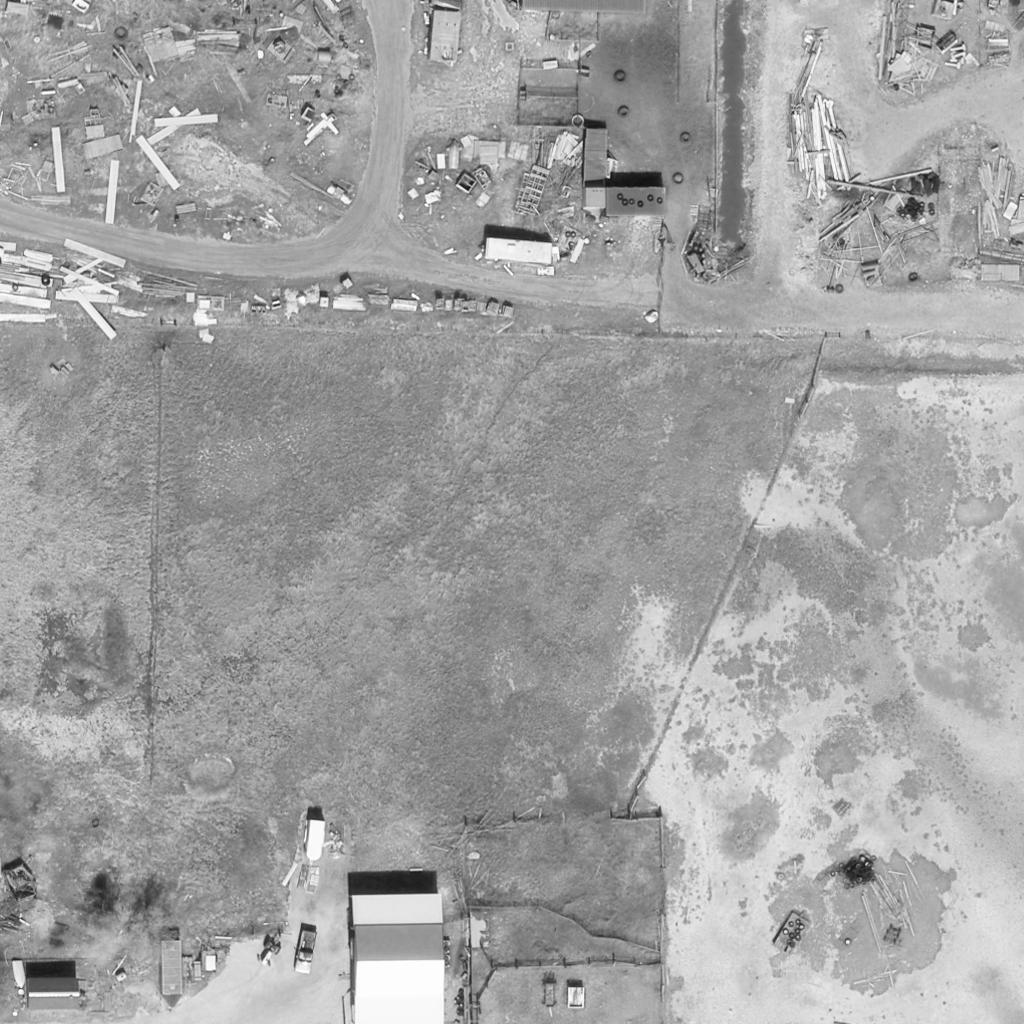vehicle: (485, 237, 551, 267), (292, 929, 322, 975)
